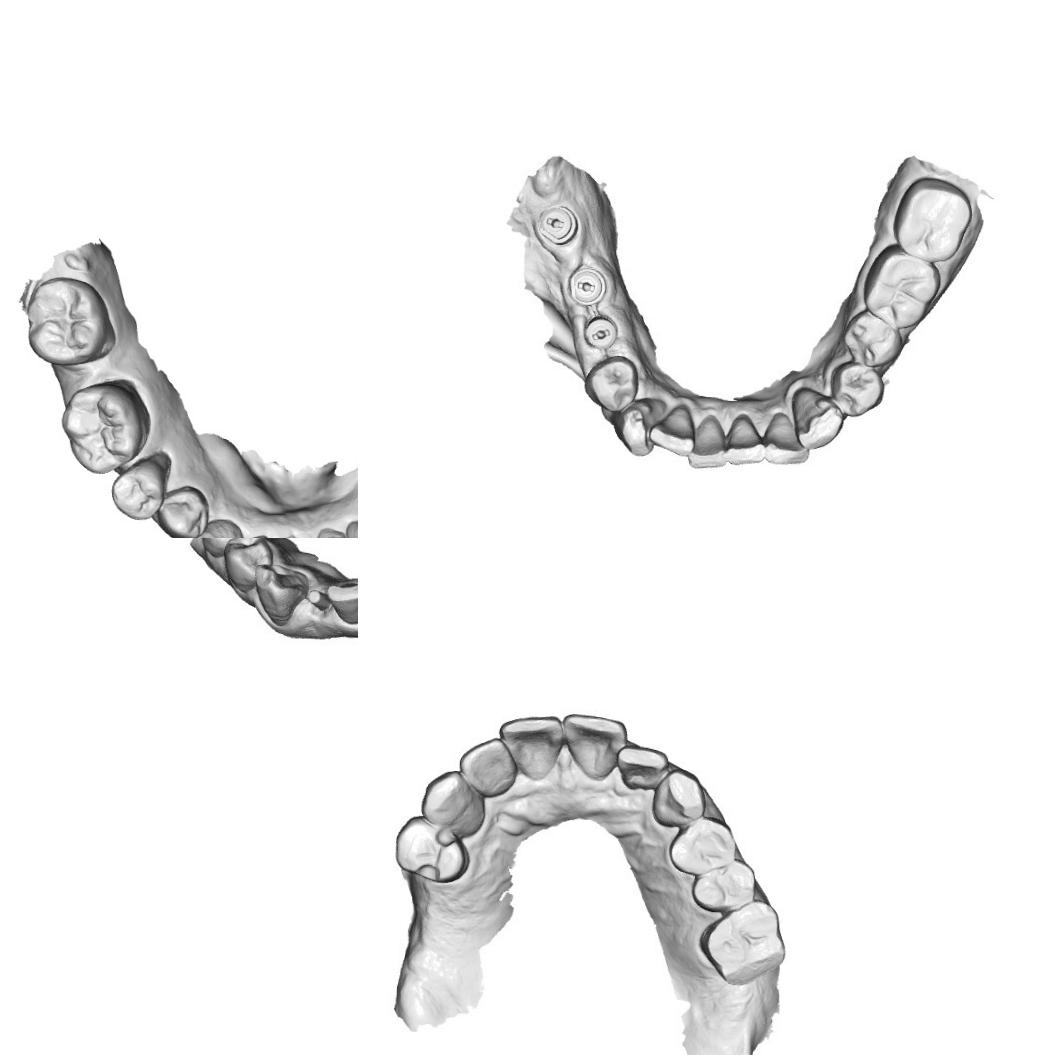abutment: (301, 586, 332, 623)
canine: (416, 766, 487, 835), (788, 388, 848, 450), (648, 766, 706, 829), (255, 568, 308, 626), (614, 397, 662, 457), (190, 515, 245, 538)
implant_minus: (540, 202, 577, 247), (568, 270, 606, 309), (583, 318, 617, 350)
incisor: (499, 712, 567, 784), (563, 712, 624, 782), (460, 736, 516, 800), (610, 743, 669, 792), (651, 404, 698, 462), (688, 418, 731, 474), (762, 413, 804, 470), (728, 412, 768, 464), (327, 575, 358, 623)
molar: (59, 376, 152, 478), (696, 896, 786, 988), (890, 178, 974, 264), (864, 242, 940, 331), (28, 278, 110, 360)
premolar: (395, 821, 468, 886), (692, 857, 760, 915), (107, 461, 168, 524), (583, 354, 642, 417), (667, 818, 732, 874), (841, 308, 899, 366), (157, 481, 210, 538), (830, 362, 884, 414), (225, 538, 272, 589), (202, 538, 252, 547)
